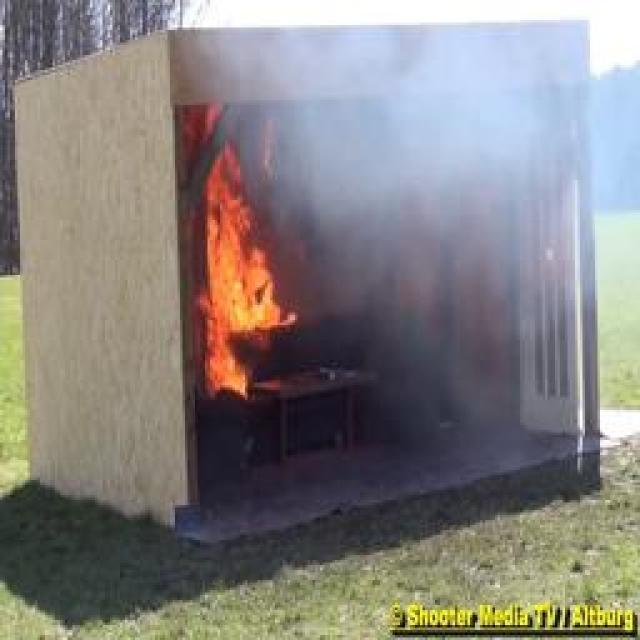Fire: (204, 134, 271, 327), (202, 290, 270, 399)
Smoke: (288, 19, 554, 179)
